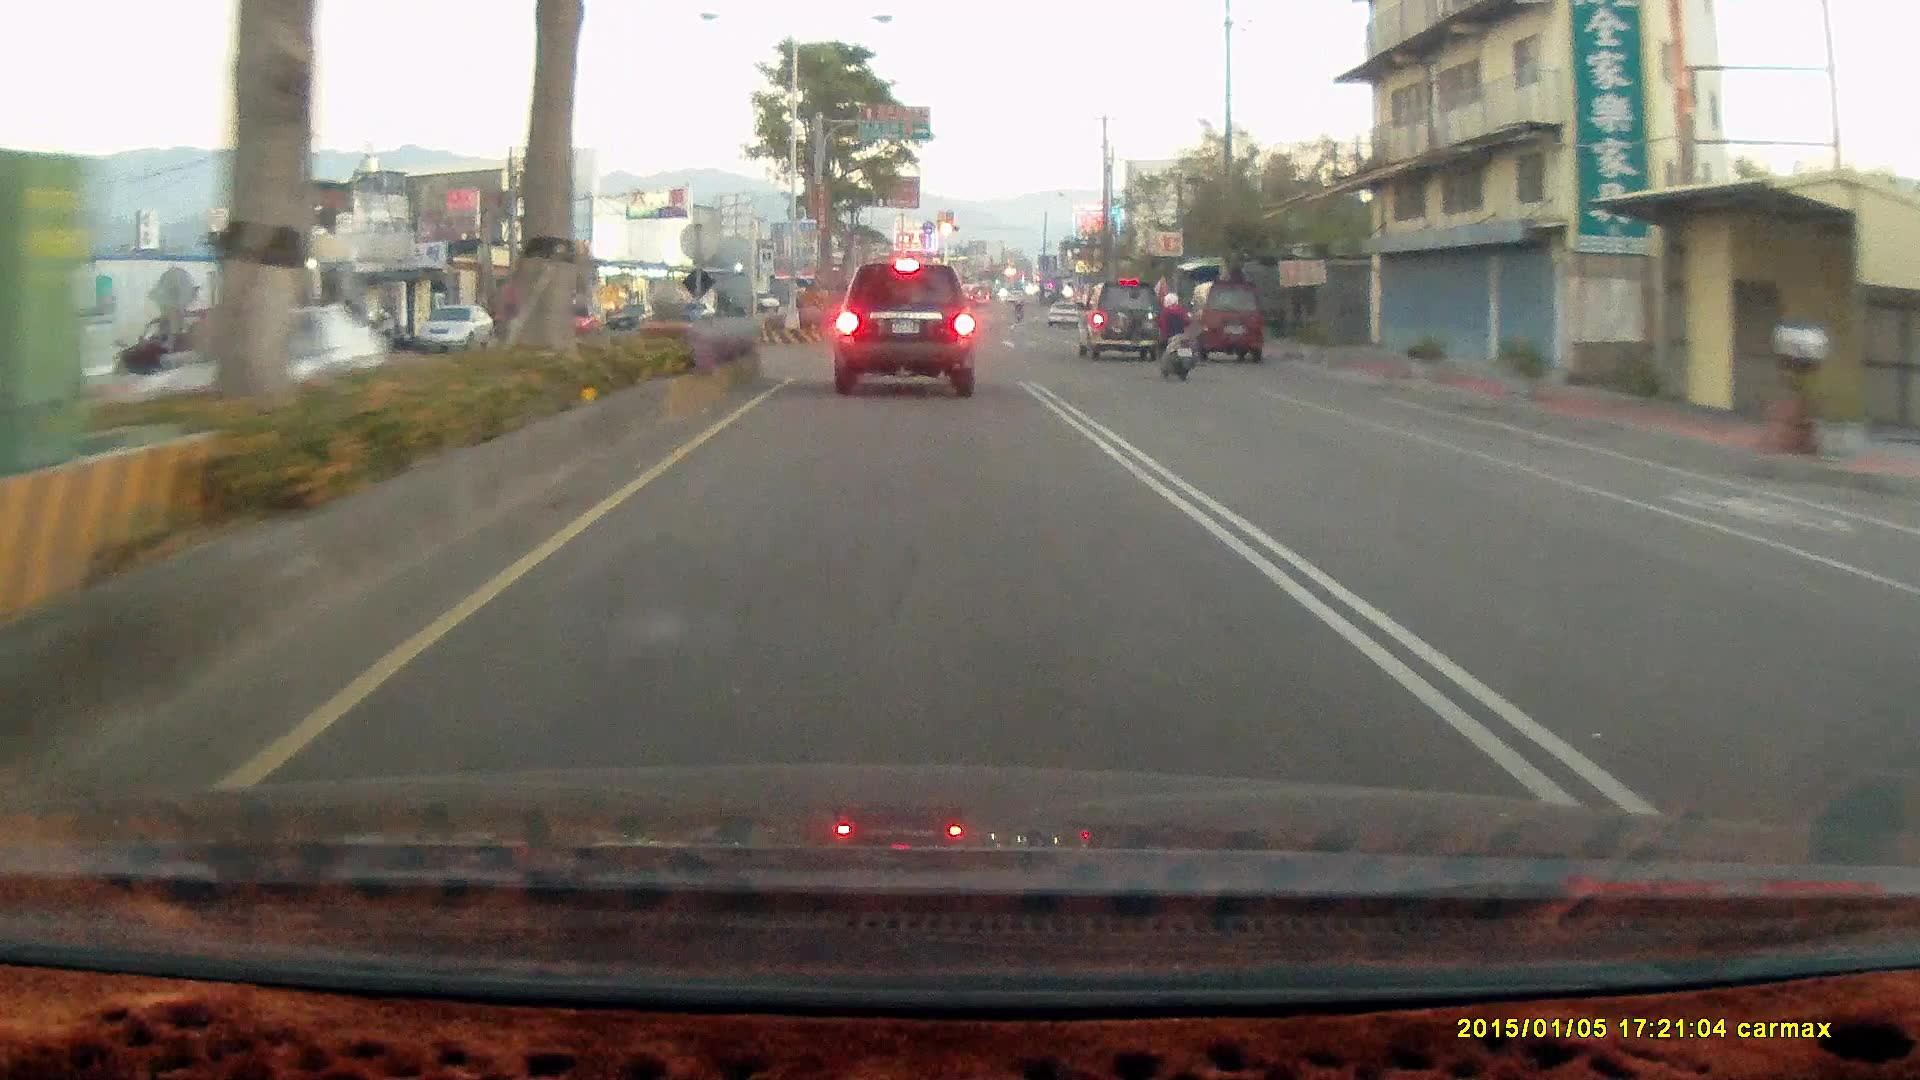rider: (1140, 284, 1203, 387), (1142, 291, 1193, 382)
vehicle: (831, 256, 986, 399), (833, 262, 973, 397), (1080, 281, 1174, 368), (1182, 281, 1267, 372), (1072, 280, 1163, 361), (1185, 281, 1265, 361), (412, 306, 500, 354), (412, 302, 495, 349)
